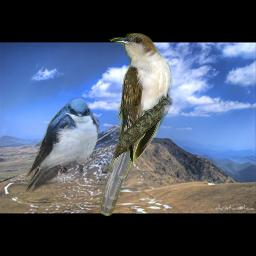Cuckoo: (99, 33, 173, 216)
Swallow: (23, 97, 100, 193)
